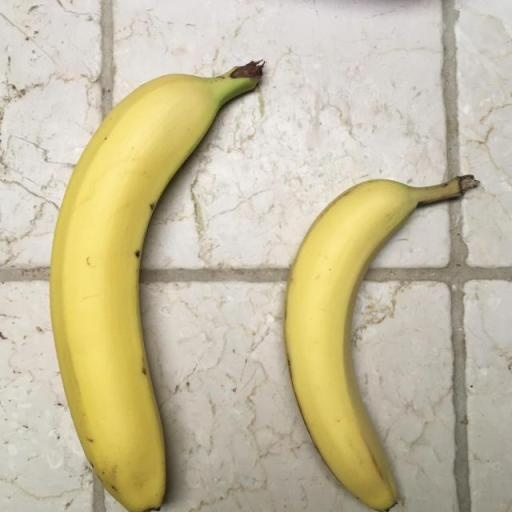fruit: (50, 63, 261, 511), (284, 176, 477, 510)
